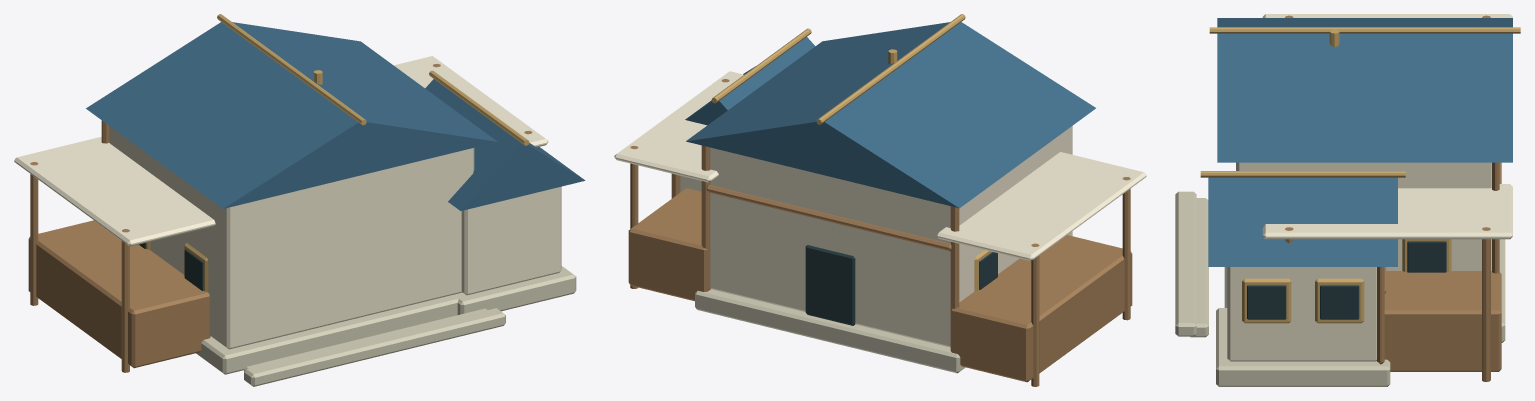
Rendered from level_17.glb.
3 renders of one model, left to right at view 1: azimuth 30°, elevation 25°; view 2: azimuth 150°, elevation 25°; view 3: azimuth 270°, elevation 25°, orthographic. The views are drawn at different scales.
Visible parts, largest first — view 1: market — level 17; view 2: market — level 17; view 3: market — level 17.
Boxes of the visible parts, bbox=[...] form: market — level 17: bbox=[14, 14, 585, 386]; market — level 17: bbox=[614, 14, 1146, 386]; market — level 17: bbox=[1175, 14, 1520, 386].
Size of the model in its own units: 7.08 by 3.63 by 4.55.
